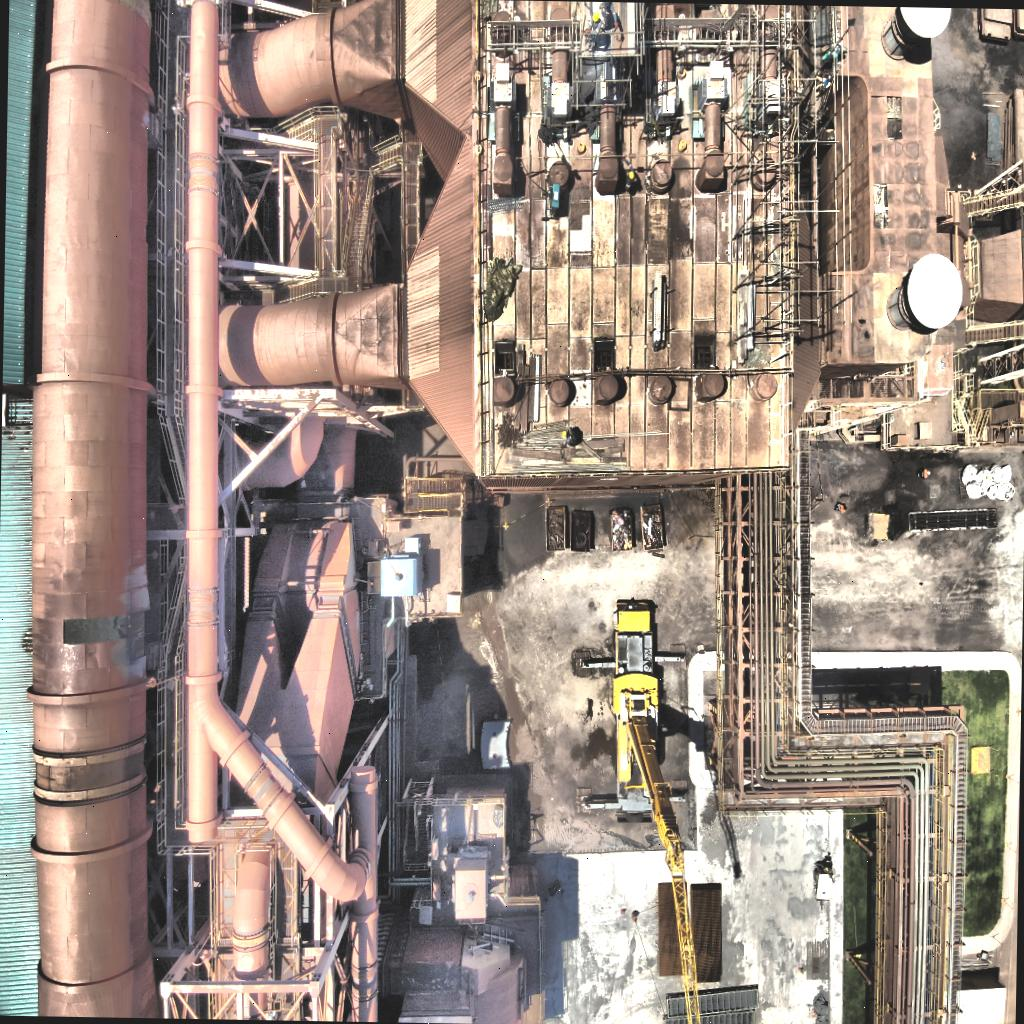Failures: (61, 611, 144, 647), (117, 0, 153, 30), (882, 94, 904, 140), (871, 182, 889, 230)
